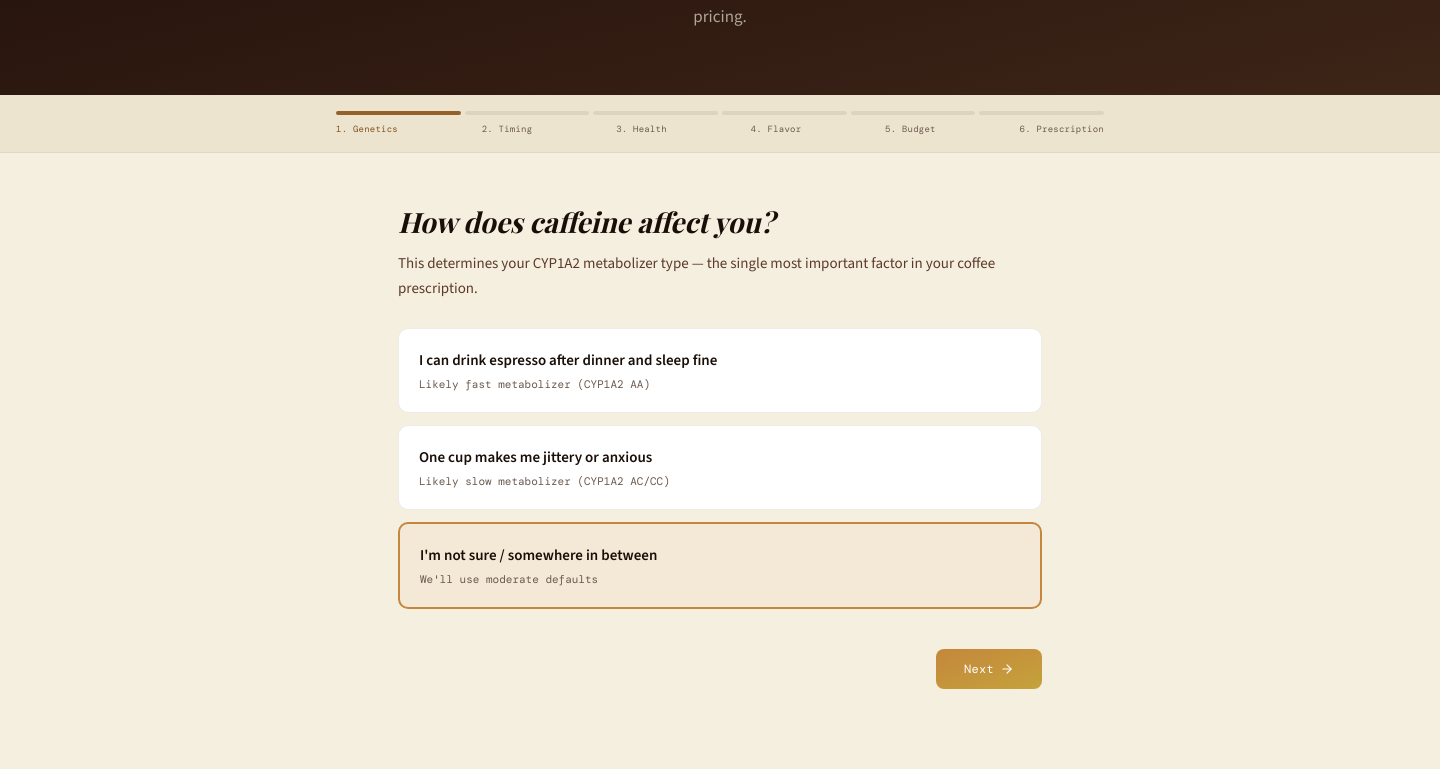
PrescriptionWizard › won't move past health or flavor until something is picked
(page scrolled)
Click the button "Next": (989, 669) [936,649,1042,689]
(page scrolled)
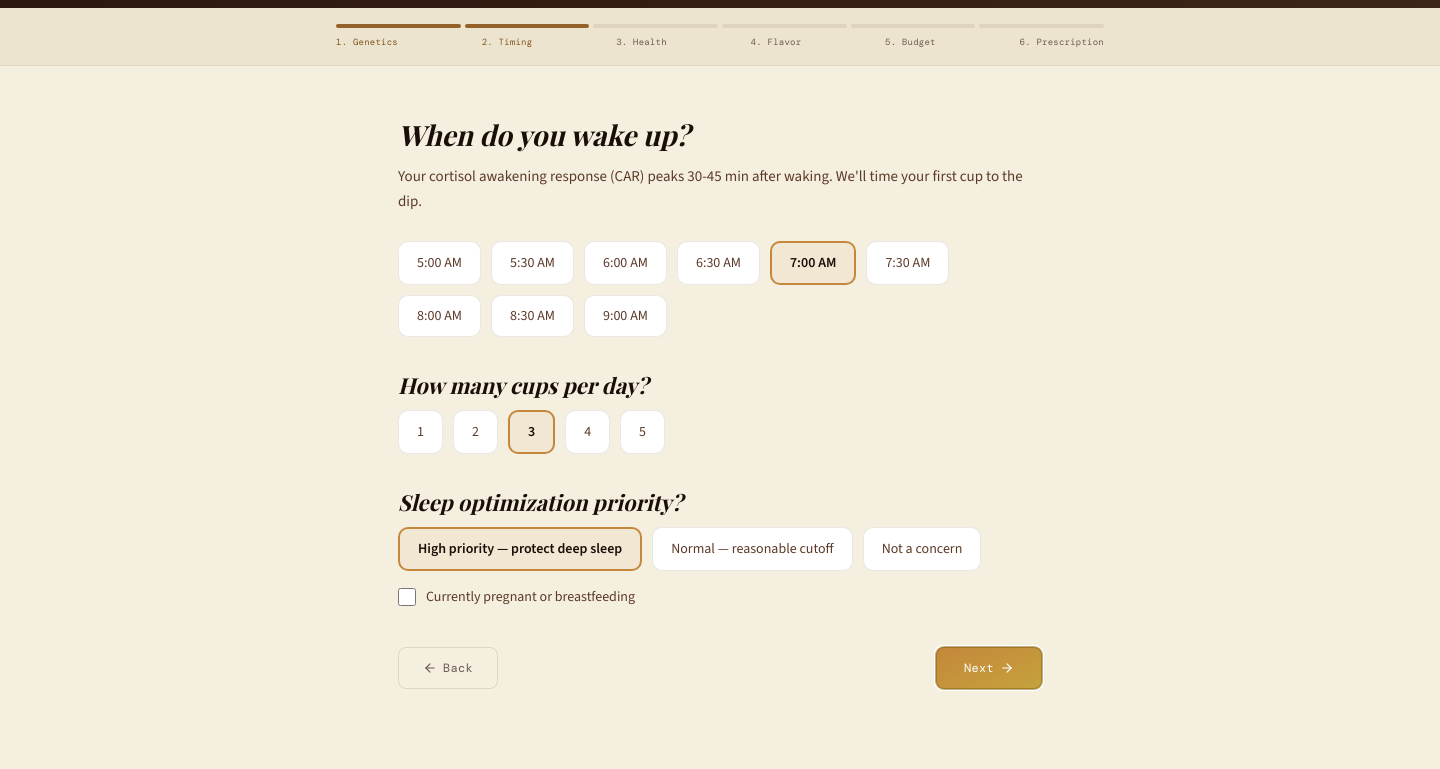
Click the button "Next": (989, 668) [936,647,1042,689]
(page scrolled)
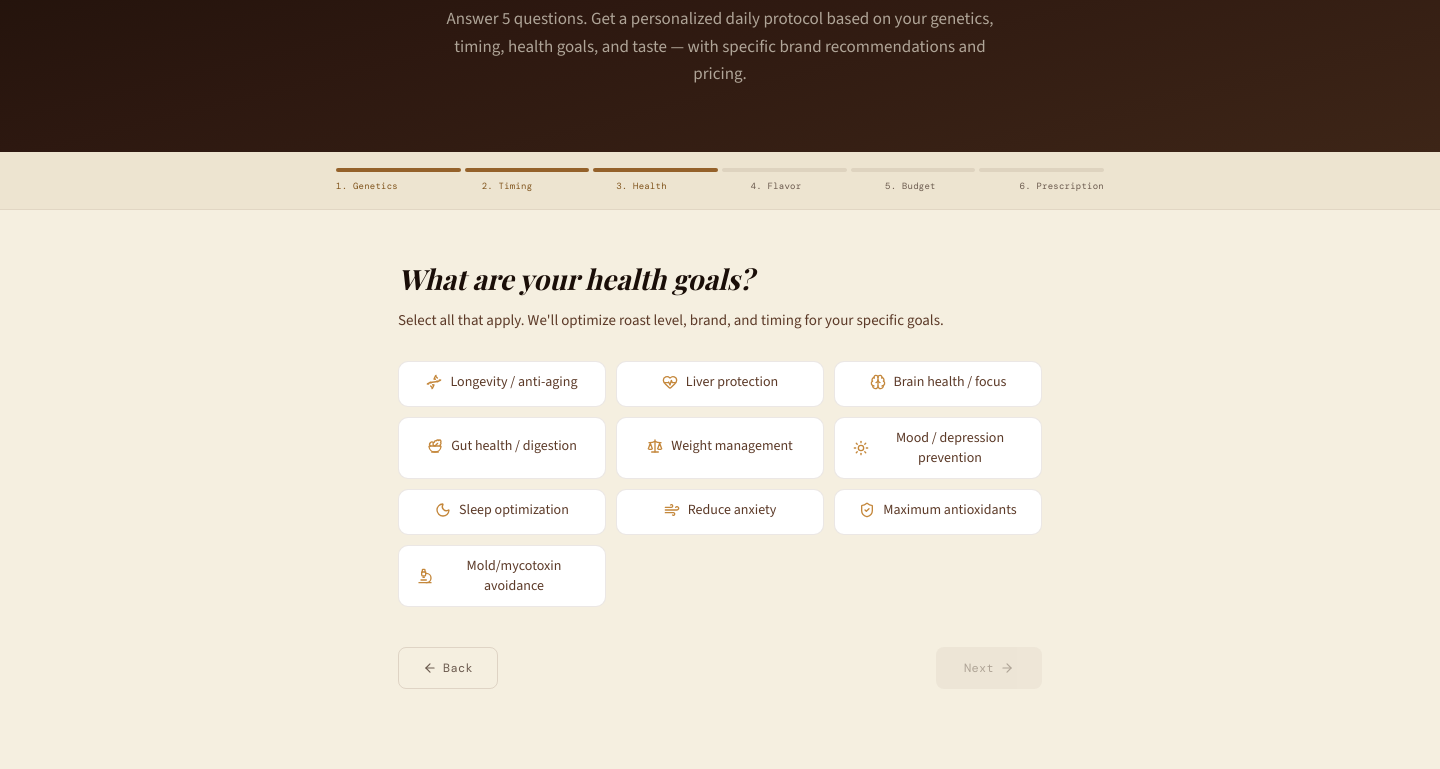
Result: the button "Next" is disabled at [936,647,1042,689]
Click the button "Liver protection": (720, 384) [616,361,824,407]
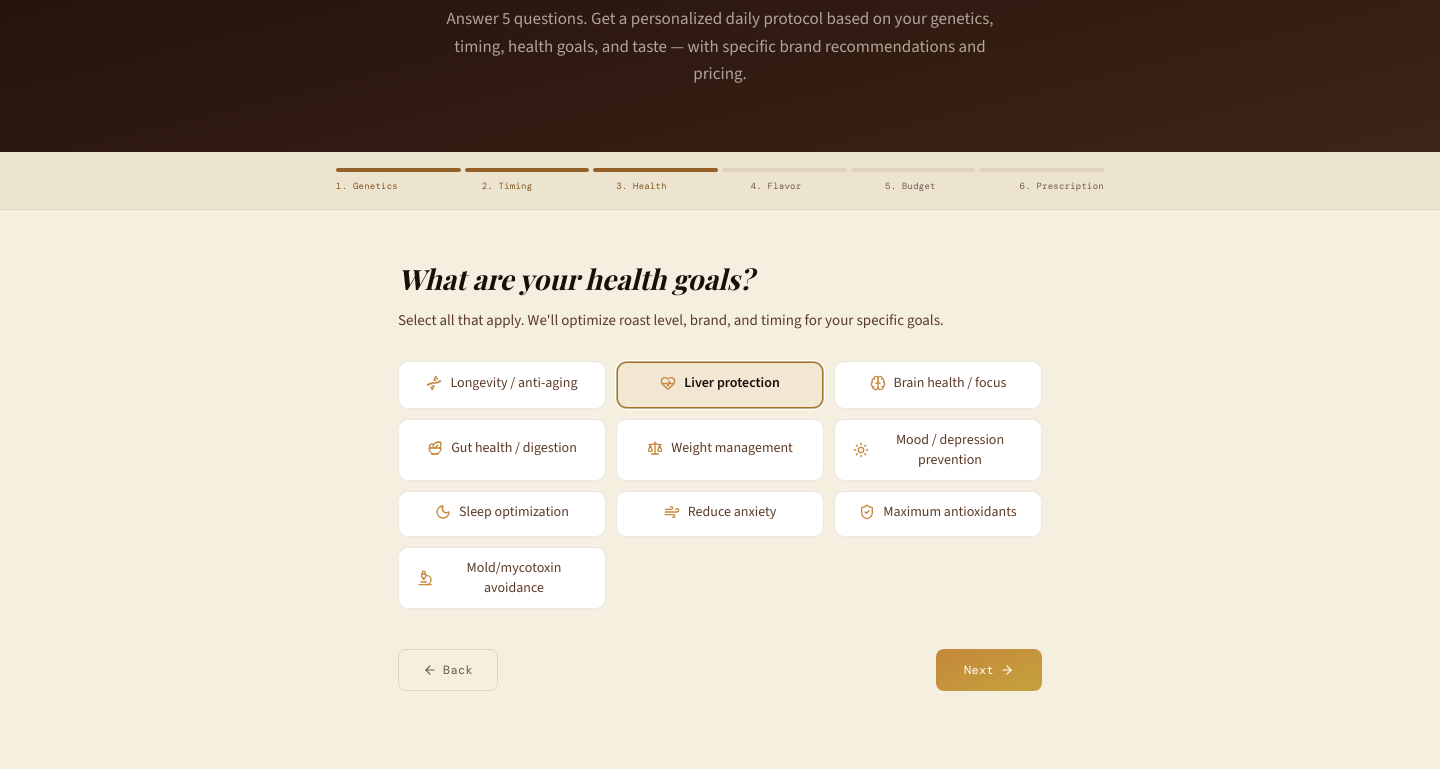
Result: the button "Next" is enabled at [936,649,1042,691]
Click the button "Liver protection": (720, 385) [616,361,824,409]
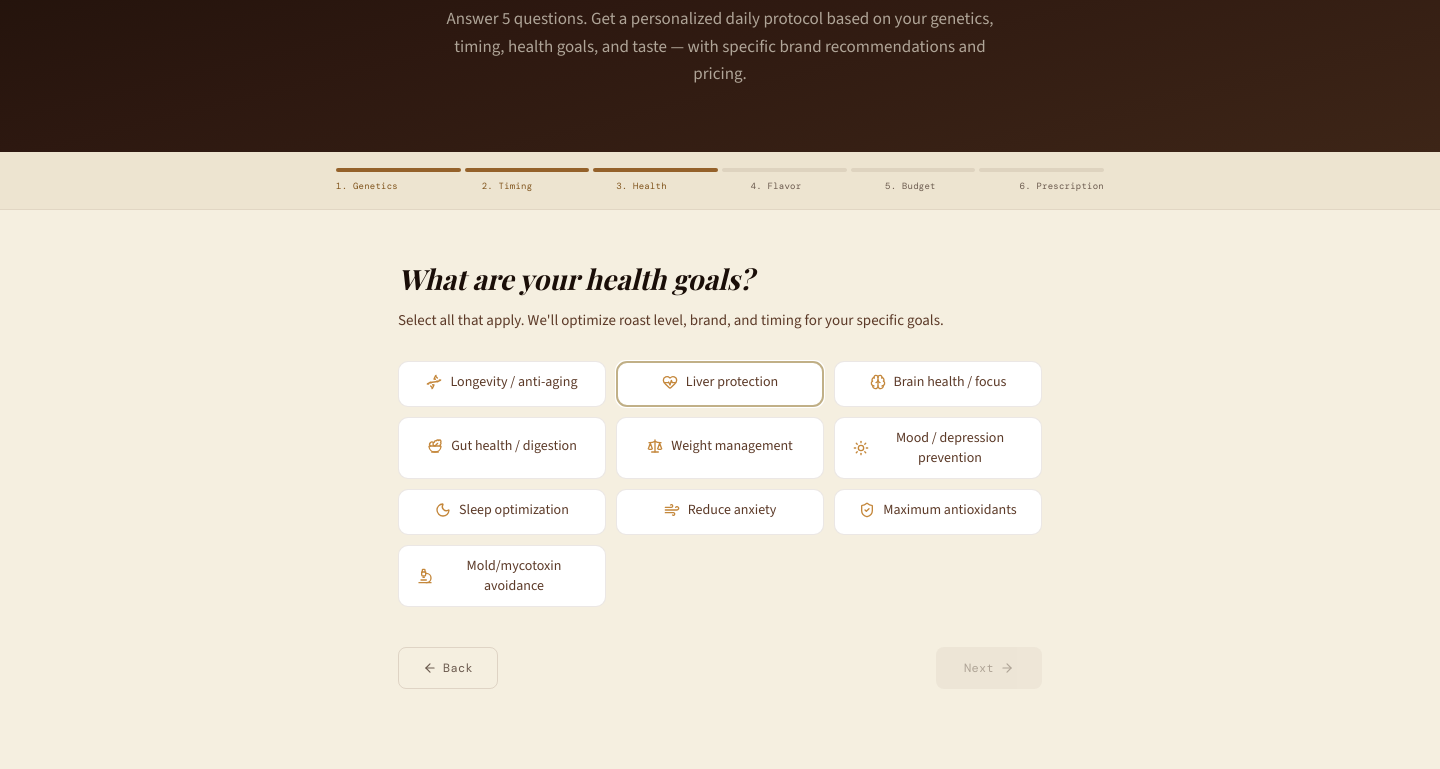
Result: the button "Next" is disabled at [936,647,1042,689]
Click the button "Back": (448, 668) [398,647,498,689]
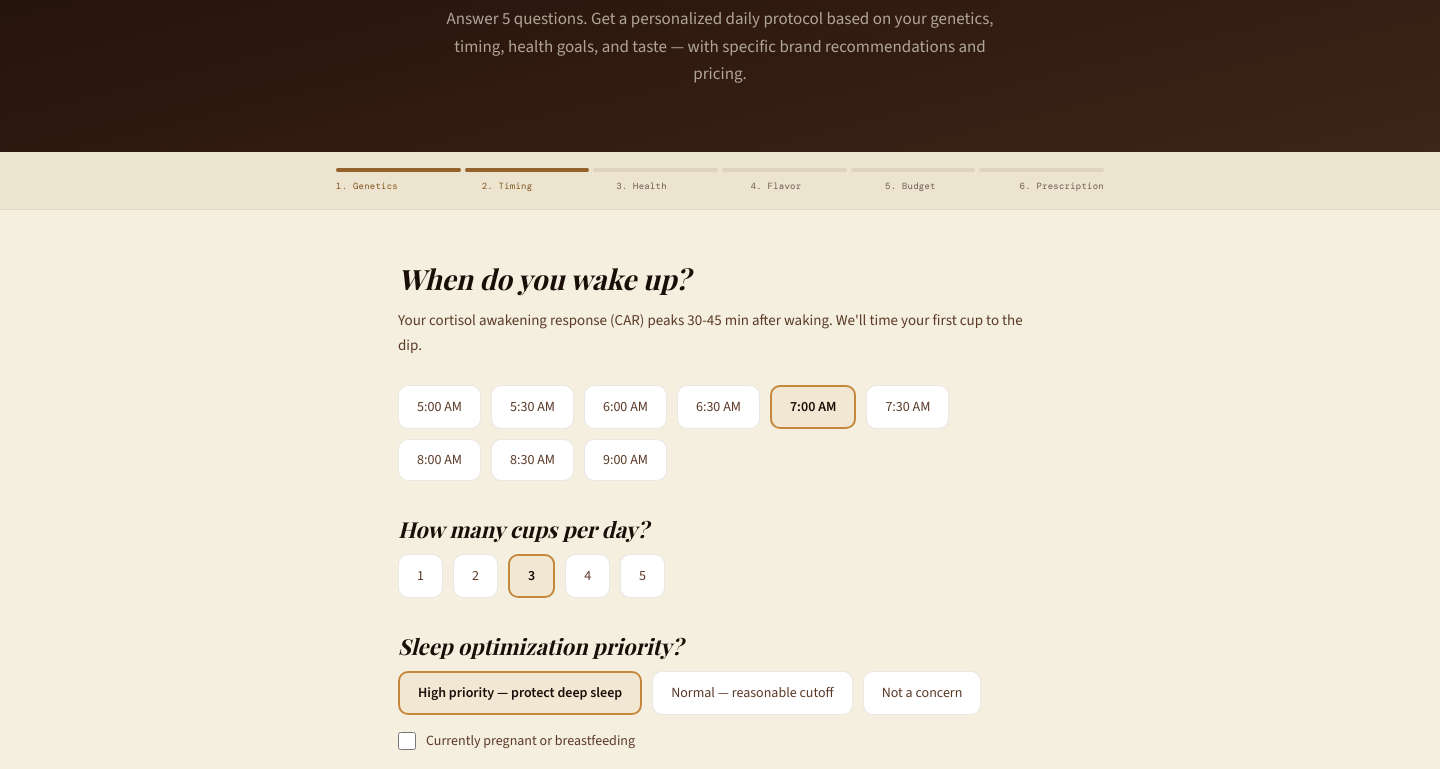
Result: the heading "When do you wake up?" is shown at [398,260,690,298]
